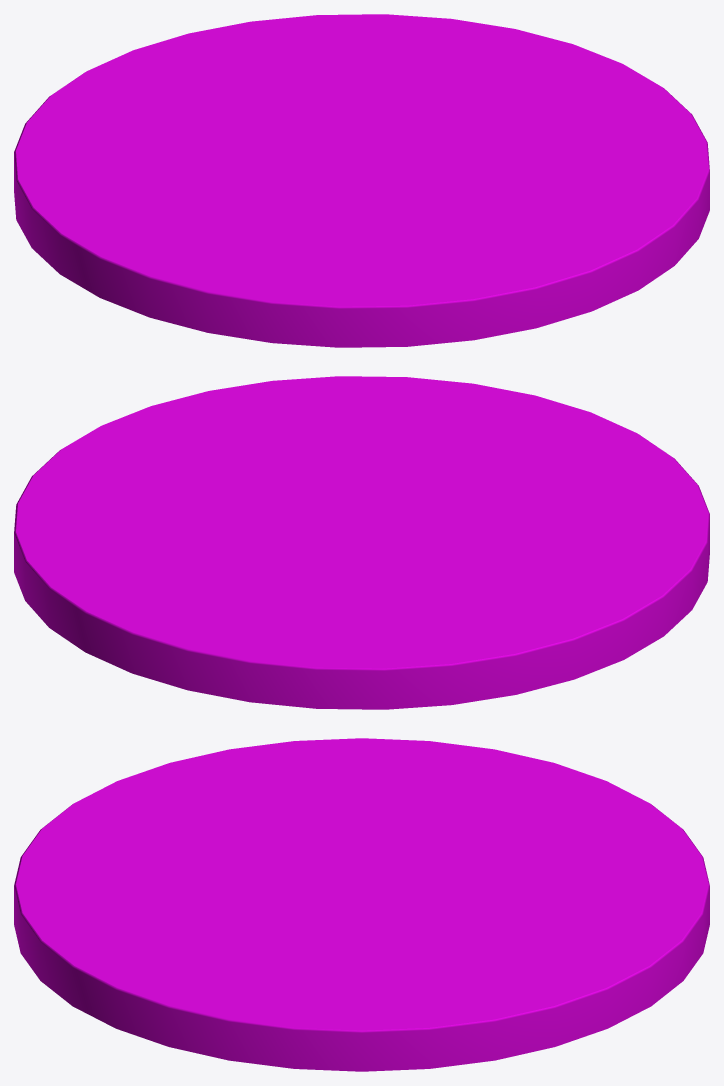
The model's file is Form_Slider_07.fbx.
3 views of the same model, one above another, from view 1: azimuth 30°, elevation 25°; view 2: azimuth 150°, elevation 25°; view 3: azimuth 270°, elevation 25° (orthographic).
Parts seen in each view (by area): view 1: Form_Slider_07; view 2: Form_Slider_07; view 3: Form_Slider_07.
Part boxes in pixels (x1,y1,x2,y2): Form_Slider_07: (14, 14, 709, 347); Form_Slider_07: (14, 376, 709, 709); Form_Slider_07: (14, 738, 709, 1071).
Size of the model in its own units: 13.49 by 0.8605 by 13.49.
